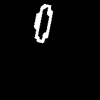chain: (34, 4, 52, 42)
